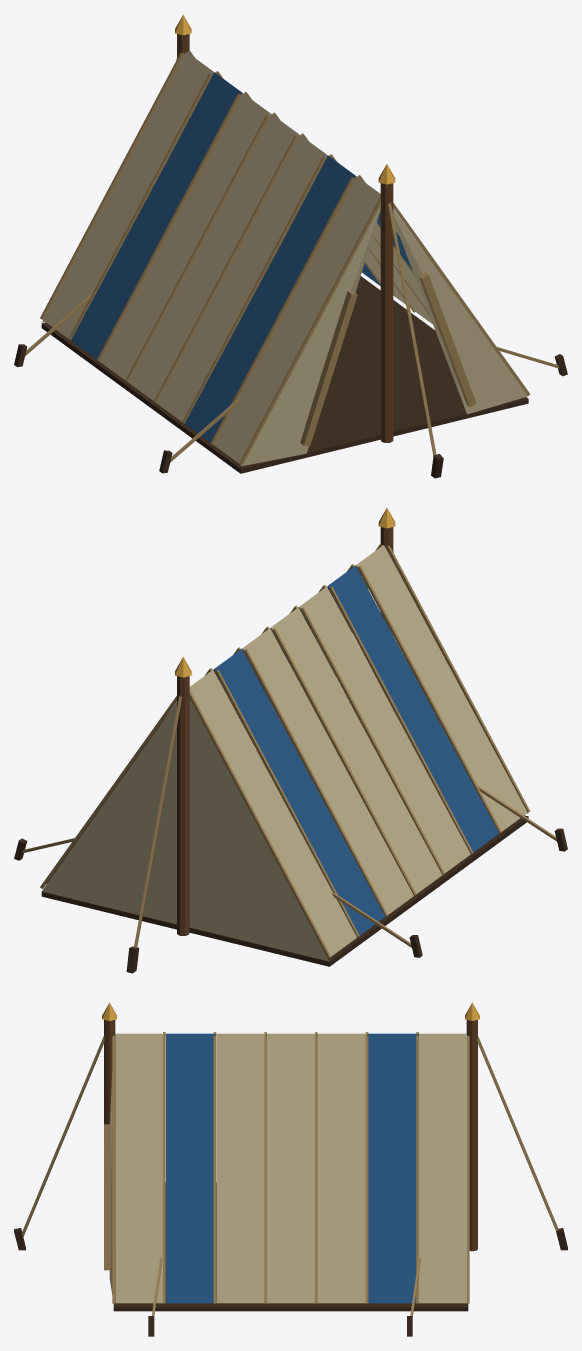
The model's file is tent.glb.
3 renders of one model, top to bottom at view 1: azimuth 30°, elevation 25°; view 2: azimuth 150°, elevation 25°; view 3: azimuth 270°, elevation 25°, orthographic. The views are drawn at different scales.
Parts seen in each view (by area): view 1: Fabric, Timber; view 2: Fabric, Timber; view 3: Fabric, Timber.
Boxes of the visible parts, x1,y1,x2,y2 form: Fabric: (25,50,559,466); Timber: (14,34,567,478); Fabric: (22,543,556,961); Timber: (14,527,567,973); Fabric: (22,1032,558,1316); Timber: (14,1020,567,1336).
Bounding box in the file's own units: 4 × 2.61 × 5.31.
